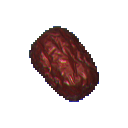gd: (25, 18, 128, 120)
